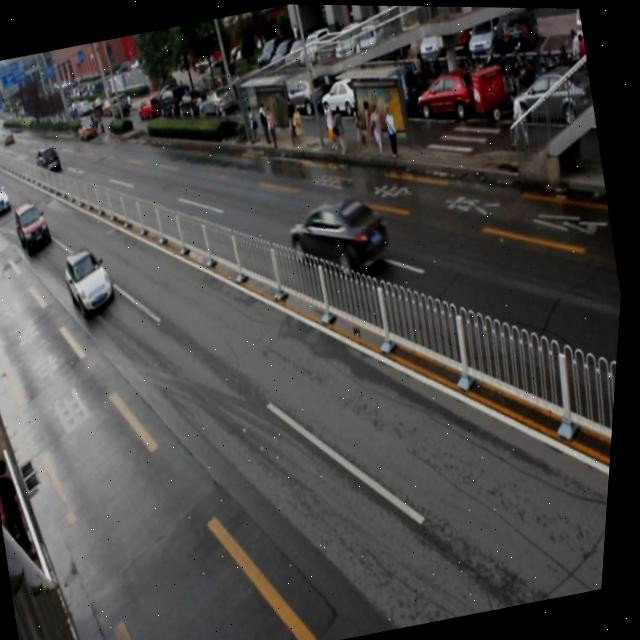car: (283, 187, 398, 285), (61, 241, 125, 322), (12, 196, 59, 255)
